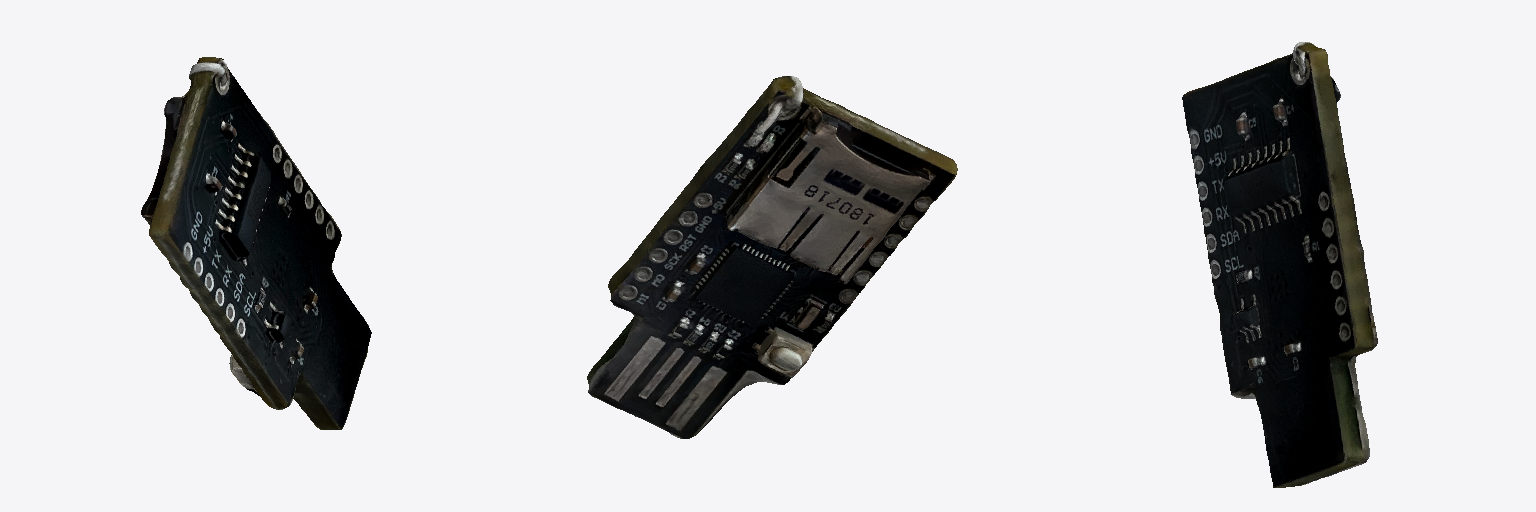
3 renders of one model, left to right at view 1: azimuth 30°, elevation 25°; view 2: azimuth 150°, elevation 25°; view 3: azimuth 270°, elevation 25°, orthographic.
Visible parts, largest first — view 1: default; view 2: default; view 3: default.
Boxes of the visible parts, <box> form: default: <box>141,57,371,429</box>; default: <box>587,76,957,438</box>; default: <box>1182,42,1377,487</box>.
Size of the model in its own units: 0.2246 by 0.2835 by 0.1293.
Materials: 2 (1 with a texture image).